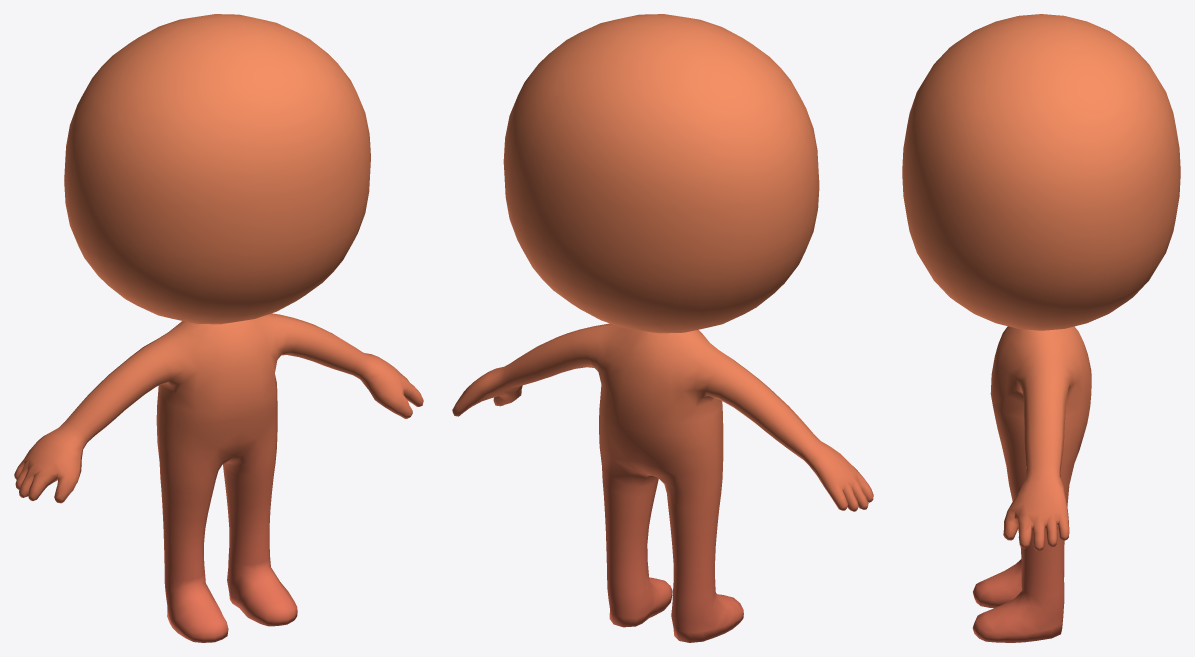
File: Body_11.glb
The picture shows the model from 3 angles, left to right: view 1: azimuth 30°, elevation 25°; view 2: azimuth 150°, elevation 25°; view 3: azimuth 270°, elevation 25°; orthographic projection. The views are drawn at different scales.
Parts seen in each view (by area): view 1: Body_11; view 2: Body_11; view 3: Body_11.
Boxes of the visible parts, bbox=[...] form: Body_11: bbox=[14, 14, 423, 642]; Body_11: bbox=[452, 14, 873, 642]; Body_11: bbox=[902, 14, 1180, 642].
Bounding box in the file's own units: 0.828 × 1.15 × 0.4965.
1 material, 1 textured.
